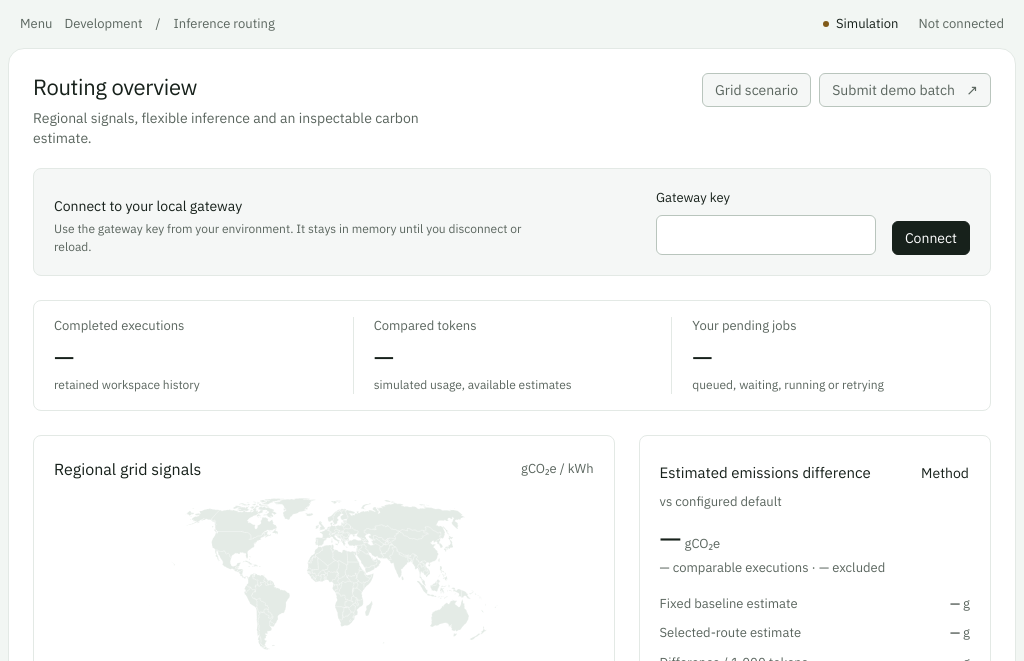
Test: dashboard › cancels only through the owner-authorized API and updates the queue
The image size is (1024, 661).
Type "test-client-key" into the password field labelled "Gateway key" at (766, 235), box [656,215,876,255]
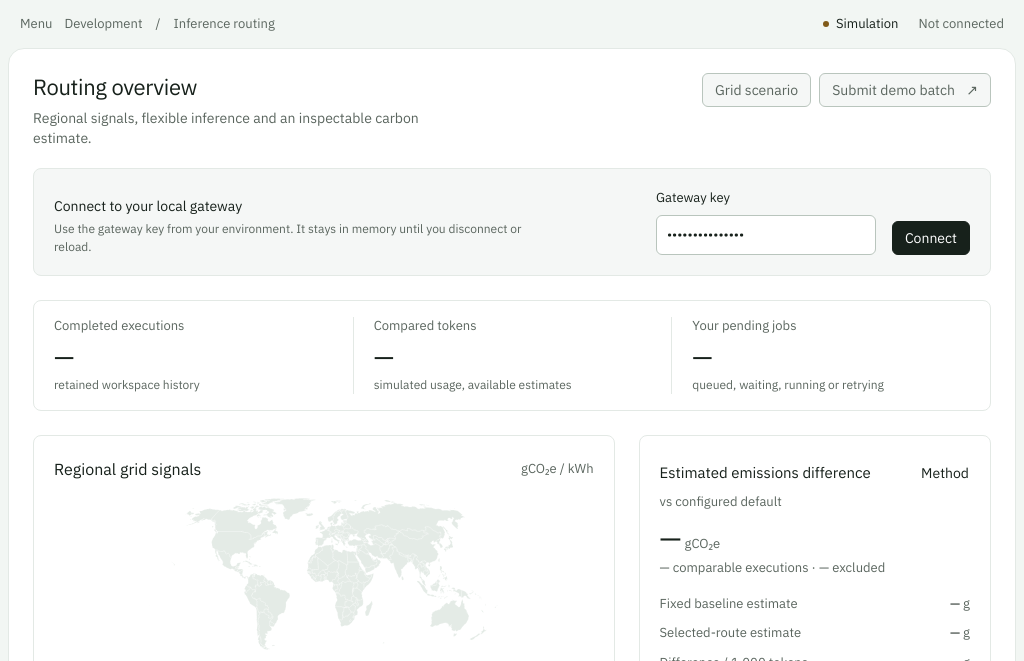
Click the button "Connect" at (931, 238), box [892,221,970,255]
(page scrolled)
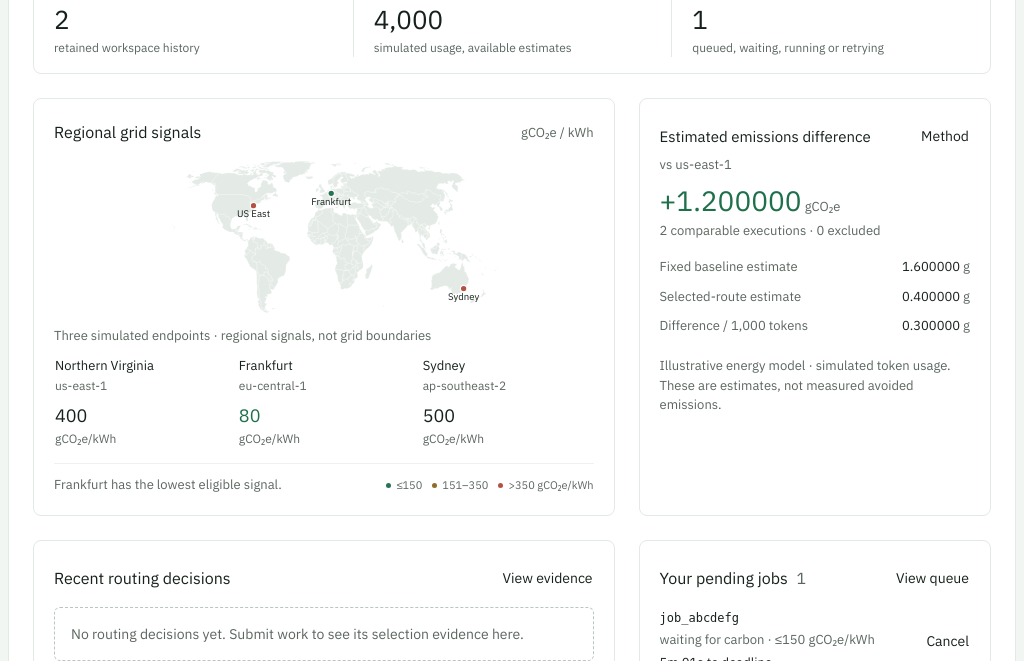
Check: the text "+1.200000" is shown, box [660,182,802,219]
Click the button with aria-label "Cancel job" at (948, 641), box [925,624,970,658]
(page scrolled)
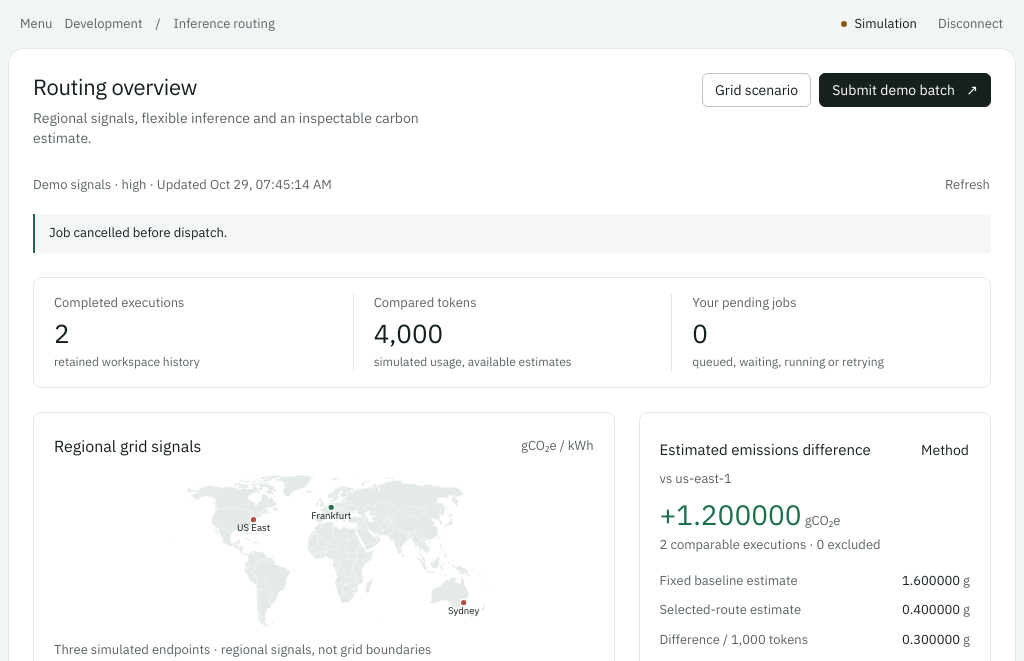
Check: the text "Job cancelled before dispatch." is shown, box [33,214,991,253]
